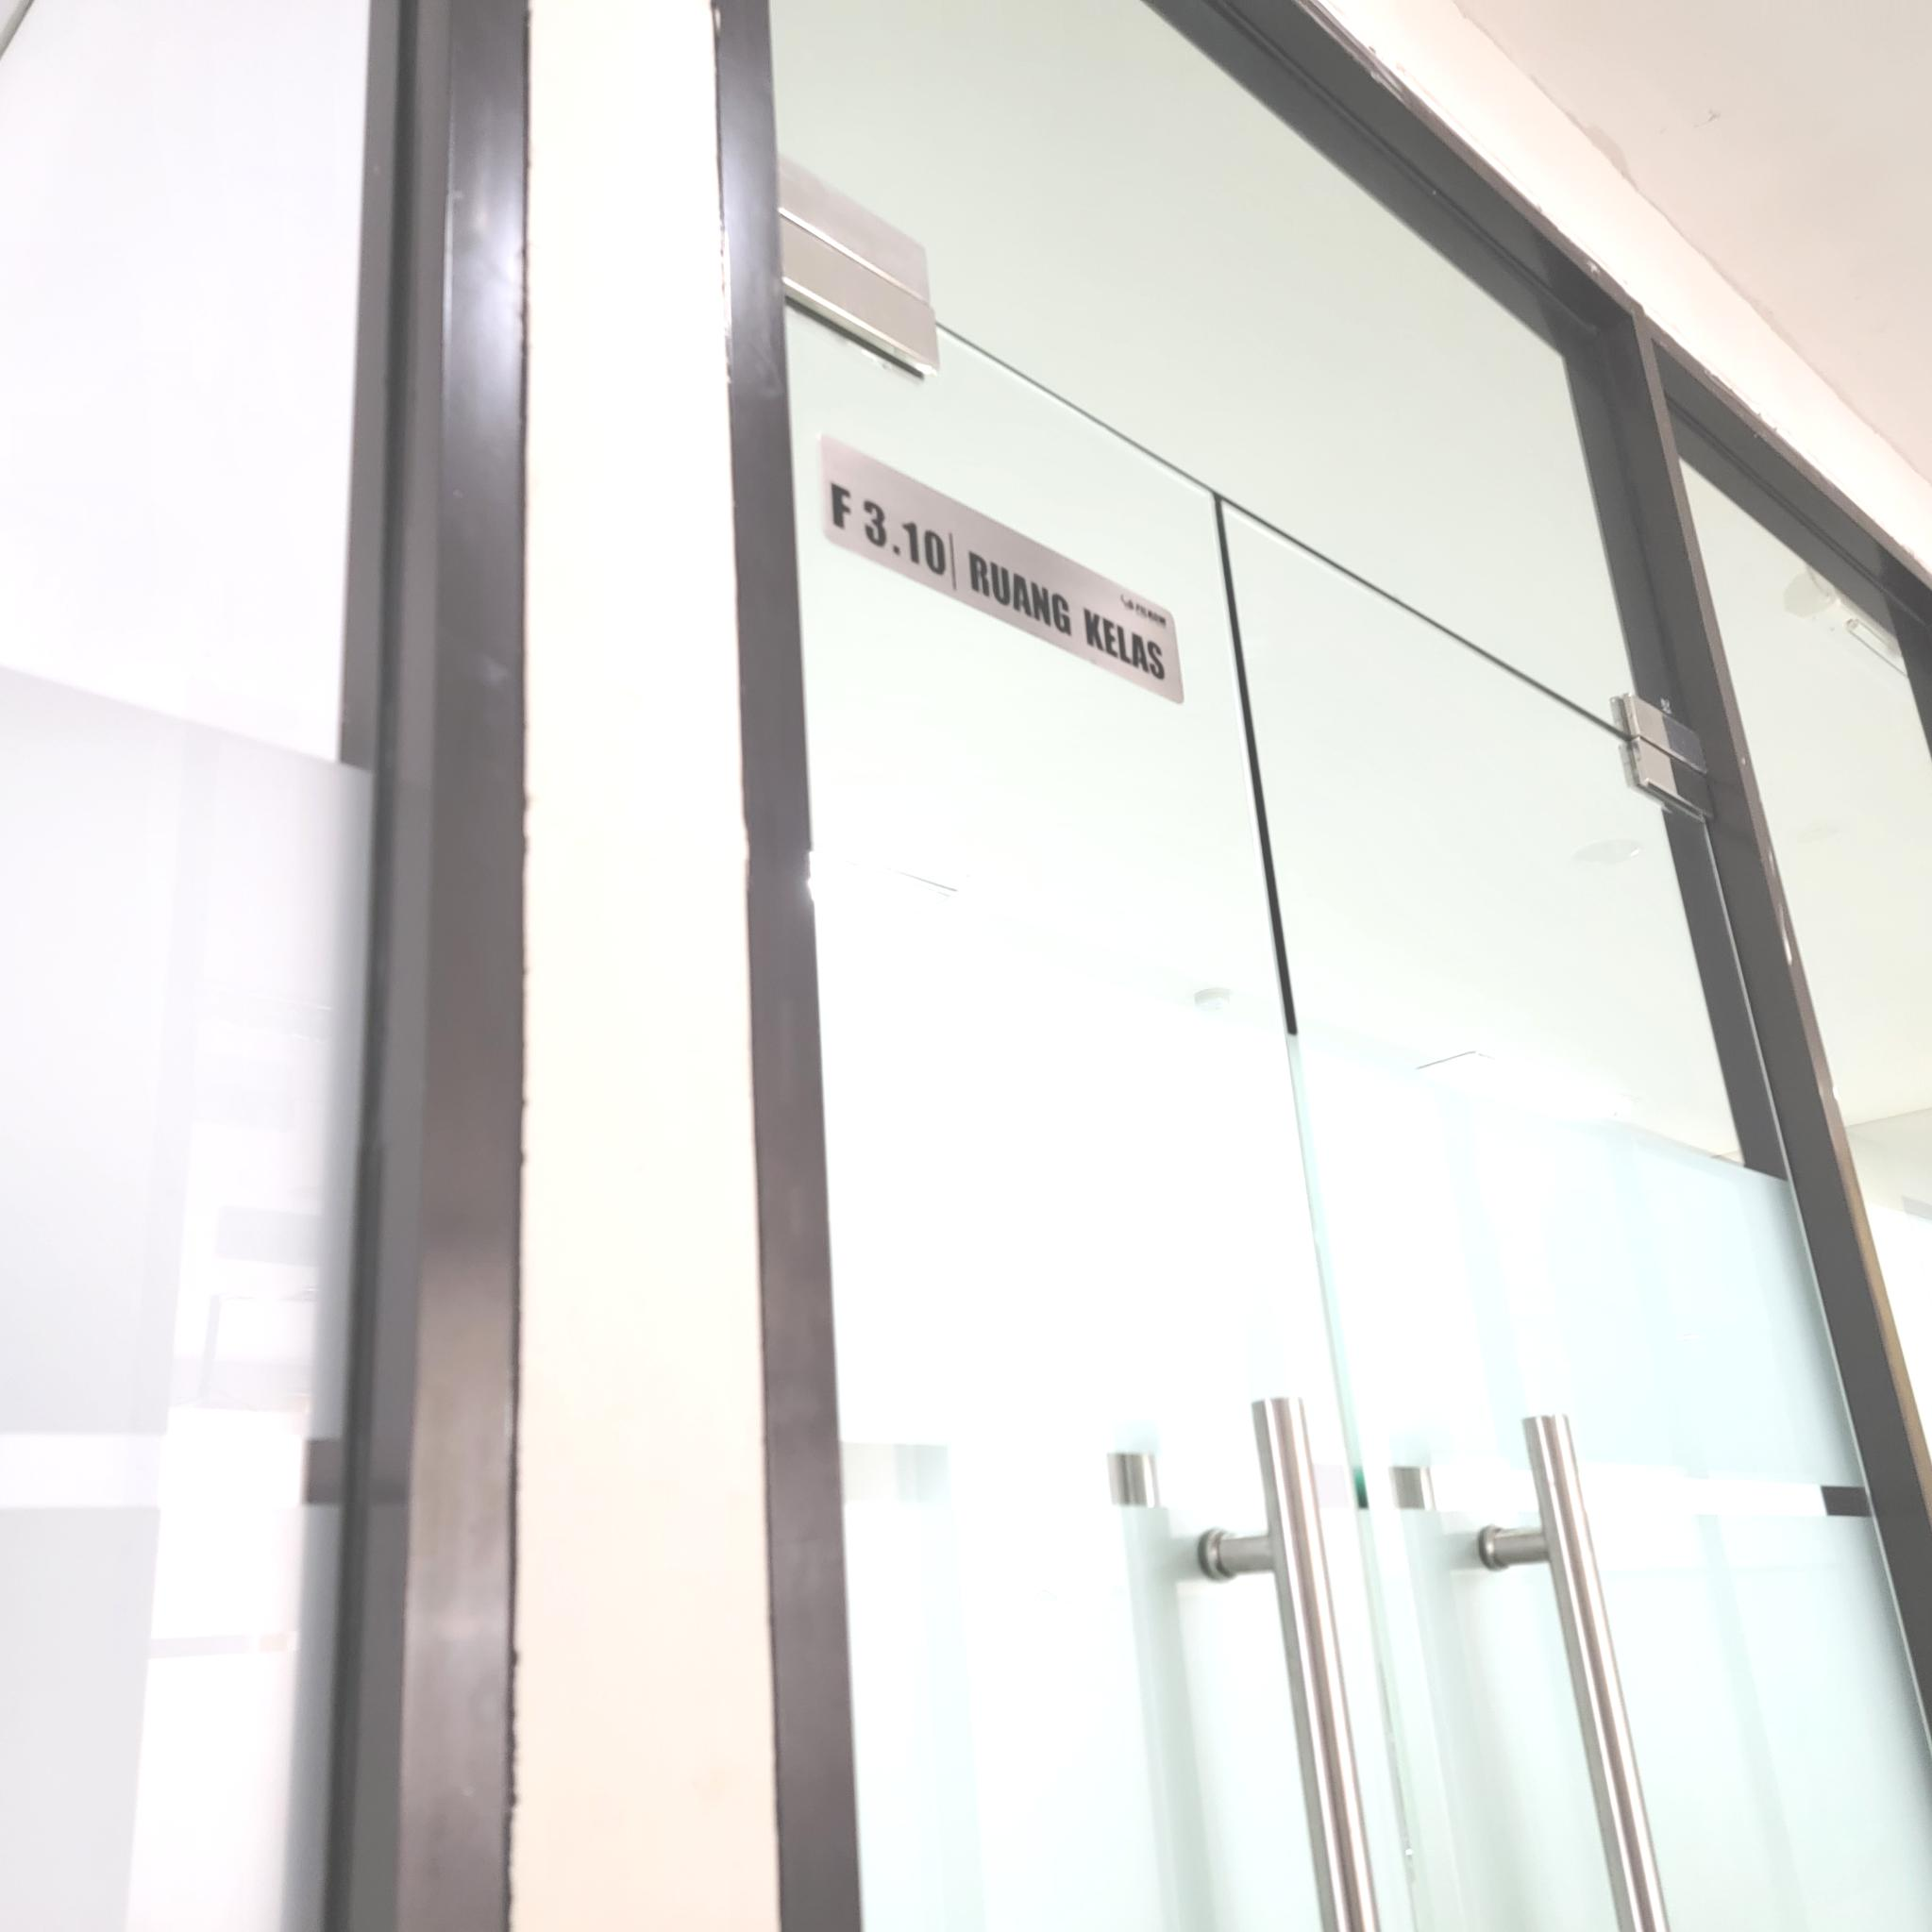plate: (819, 432, 1187, 702)
